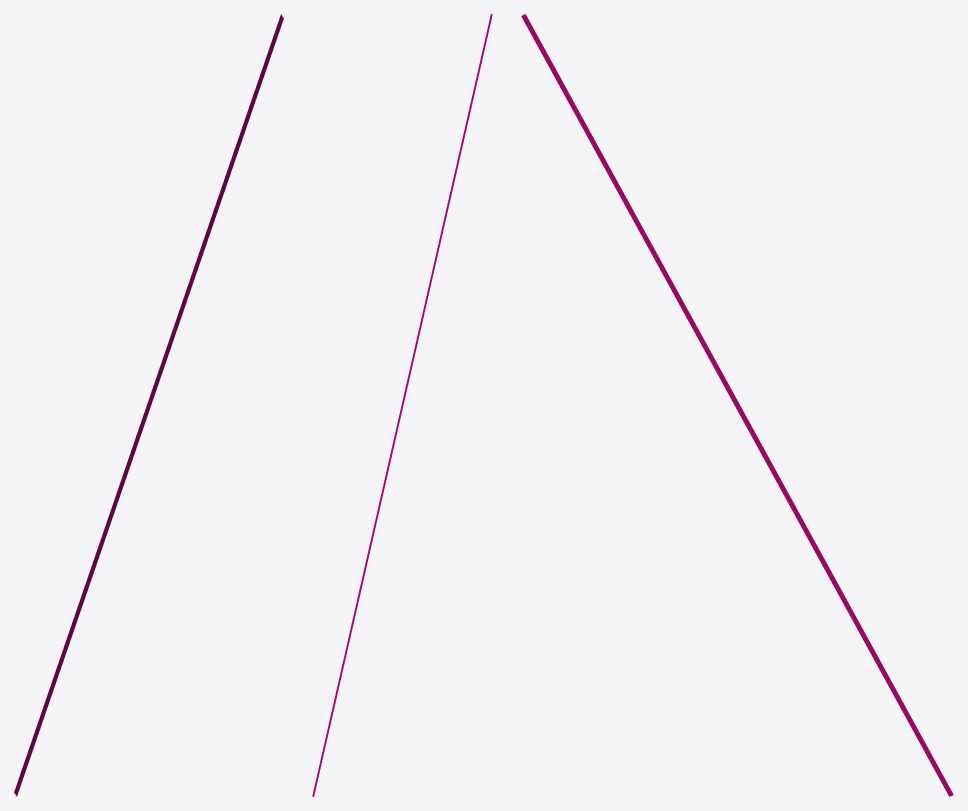
The picture shows the model from 3 angles, left to right: view 1: azimuth 30°, elevation 25°; view 2: azimuth 150°, elevation 25°; view 3: azimuth 270°, elevation 25°; orthographic projection. The views are drawn at different scales.
Visible parts, largest first — view 1: Плоскость.001; view 2: Плоскость.001; view 3: Плоскость.001.
Part boxes in pixels (<box>): Плоскость.001: <box>14,14,283,796</box>; Плоскость.001: <box>312,14,492,796</box>; Плоскость.001: <box>521,14,953,796</box>.
Bounding box in the file's own units: 1.08e-06 × 6.47 × 3.24.
